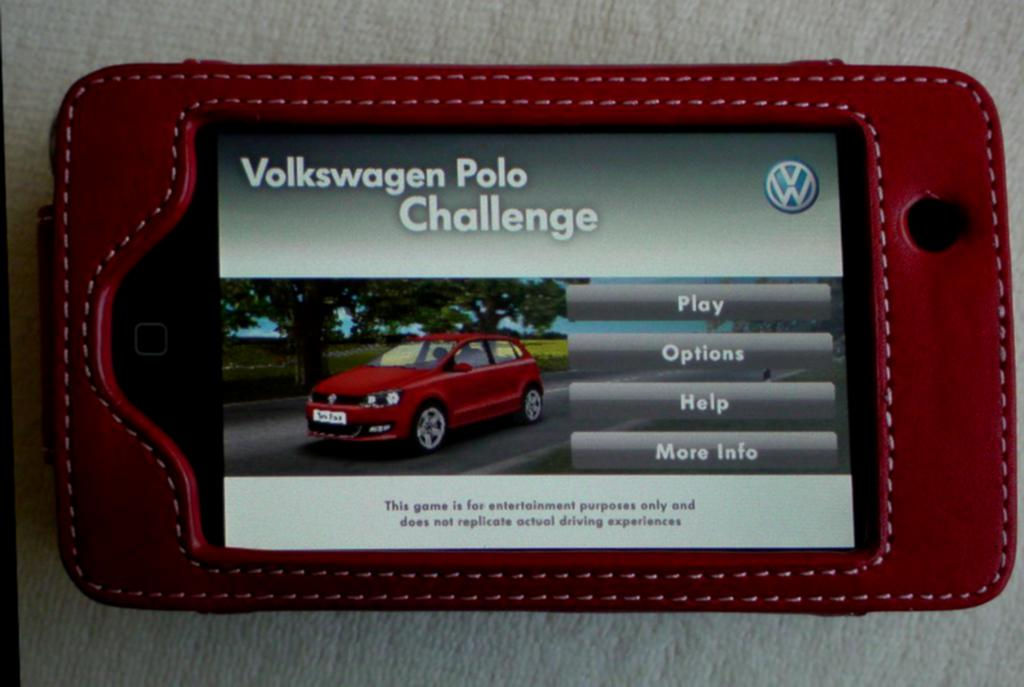License_Plate: (315, 408, 345, 427)
